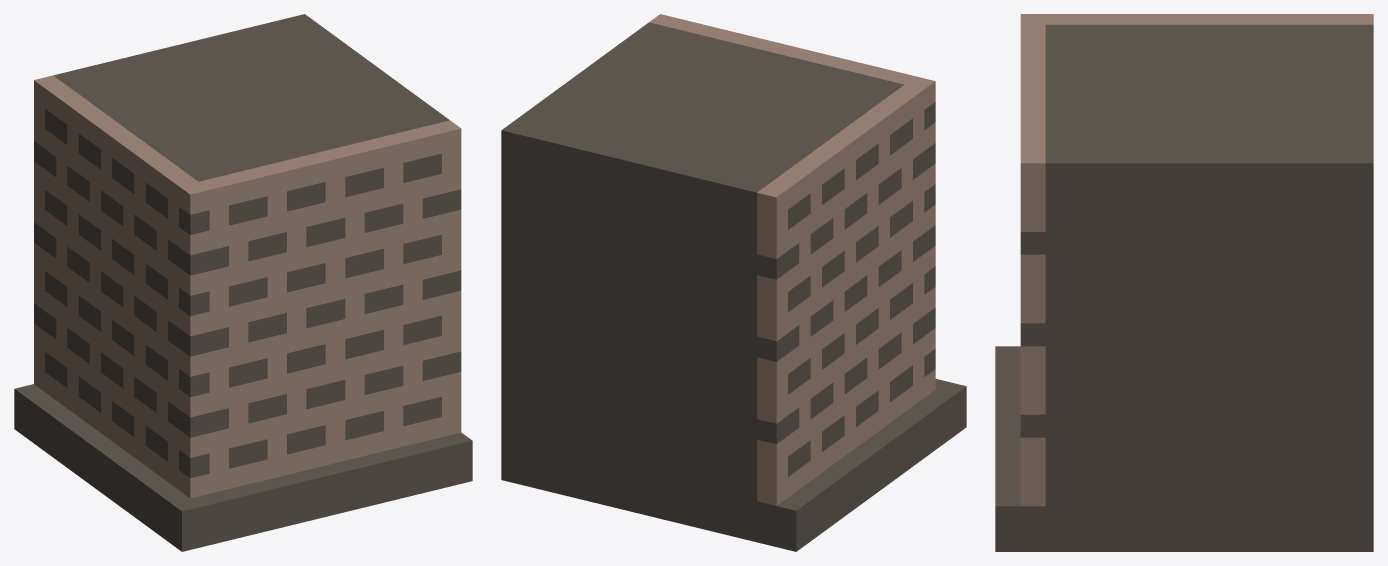
Rendered from dungeon_a_b_outer_wall_corner_a.obj.
The picture shows the model from 3 angles, left to right: view 1: azimuth 30°, elevation 25°; view 2: azimuth 150°, elevation 25°; view 3: azimuth 270°, elevation 25°; orthographic projection. The views are drawn at different scales.
Size of the model in its own units: 1.5 by 1.7 by 1.5.
Materials: 1 (1 with a texture image).
